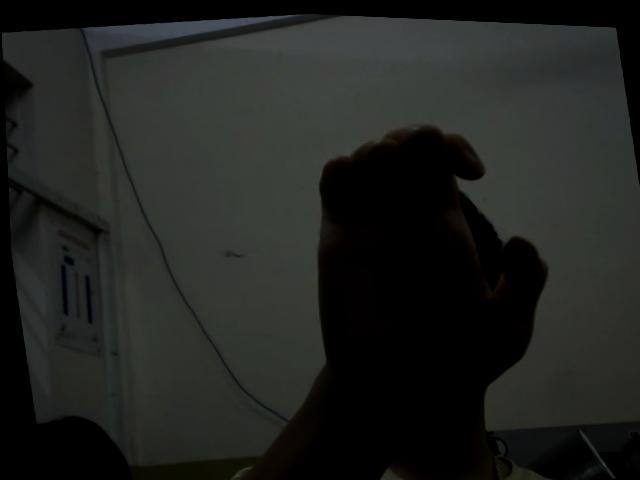E: (289, 101, 565, 413)
